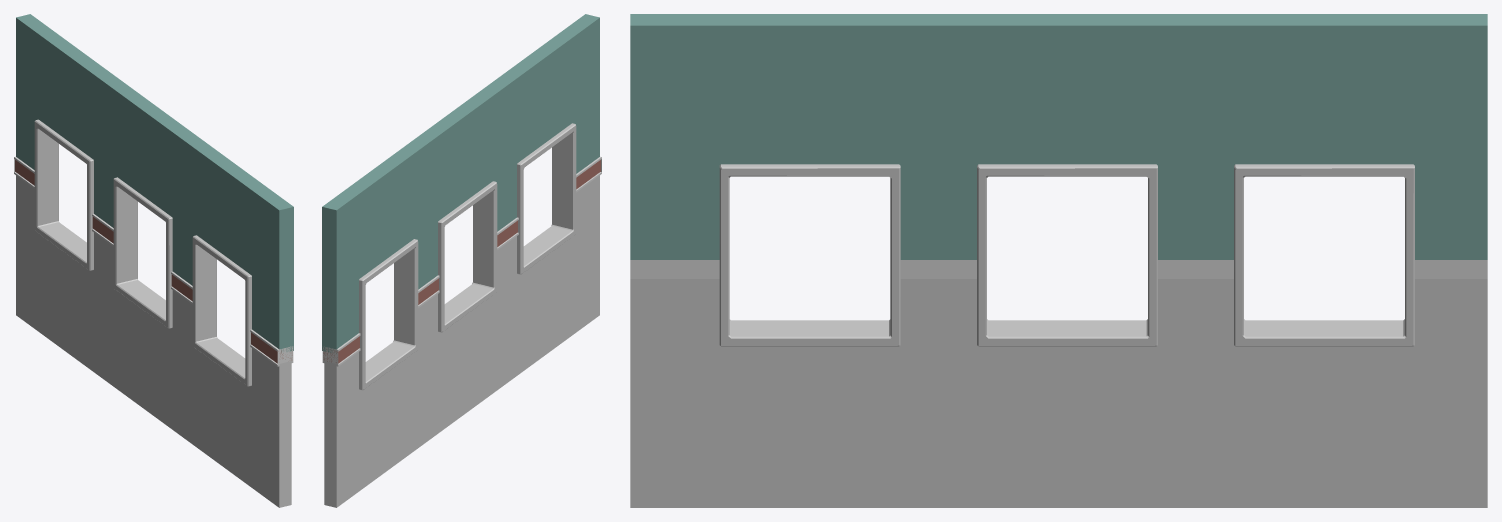
Rendered from wall4.fbx.
The picture shows the model from 3 angles, left to right: view 1: azimuth 30°, elevation 25°; view 2: azimuth 150°, elevation 25°; view 3: azimuth 270°, elevation 25°; orthographic projection. The views are drawn at different scales.
Parts seen in each view (by area): view 1: wall10_wall14, wall10_wall13, pCube45, pCube43, pCube44, wall10_wall12, wall10_wall11; view 2: wall10_wall14, wall10_wall13, pCube44, pCube43, pCube45, wall10_wall12, wall10_wall11; view 3: wall10_wall13, wall10_wall14, pCube45, pCube44, pCube43, wall10_wall11.
Boxes of the visible parts, left/top/right/bottom form: wall10_wall14: left=16, top=14, right=293, bottom=352; wall10_wall13: left=16, top=175, right=291, bottom=507; pCube45: left=192, top=235, right=251, bottom=386; pCube43: left=34, top=119, right=93, bottom=270; pCube44: left=113, top=177, right=172, bottom=328; wall10_wall12: left=15, top=160, right=292, bottom=363; wall10_wall11: left=14, top=156, right=293, bottom=366; wall10_wall14: left=322, top=14, right=599, bottom=353; wall10_wall13: left=324, top=175, right=599, bottom=507; pCube44: left=438, top=181, right=497, bottom=332; pCube43: left=359, top=239, right=418, bottom=390; pCube45: left=517, top=123, right=576, bottom=274; wall10_wall12: left=323, top=160, right=600, bottom=363; wall10_wall11: left=322, top=156, right=601, bottom=366; wall10_wall13: left=630, top=279, right=1487, bottom=507; wall10_wall14: left=630, top=14, right=1487, bottom=259; pCube45: left=719, top=164, right=900, bottom=346; pCube44: left=977, top=164, right=1157, bottom=346; pCube43: left=1234, top=164, right=1414, bottom=346; wall10_wall11: left=630, top=260, right=1487, bottom=278.
Bounding box in the file's own units: 0.805 × 10.36 × 16.63.
